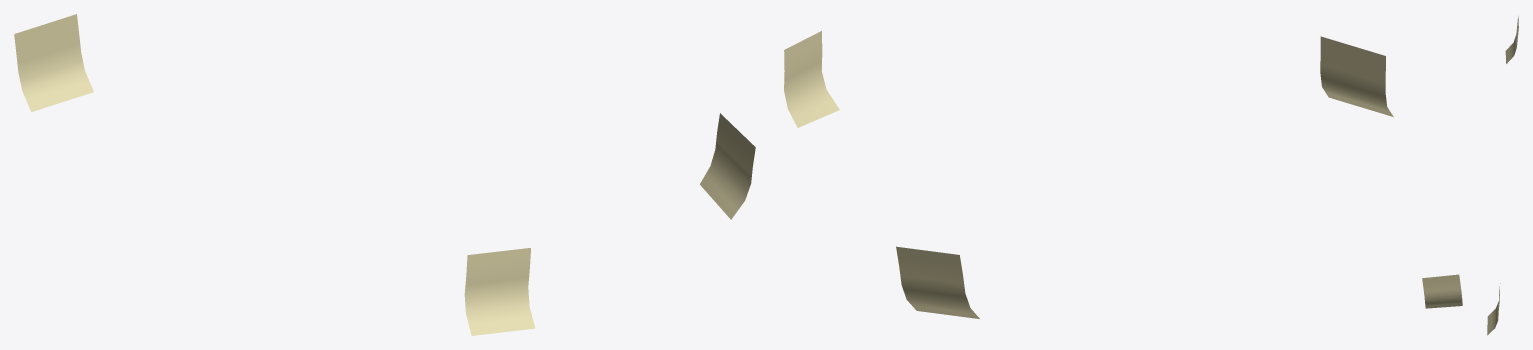
3 views of the same model, side by side, from view 1: azimuth 30°, elevation 25°; view 2: azimuth 150°, elevation 25°; view 3: azimuth 270°, elevation 25° (orthographic). The views are drawn at different scales.
Visible parts, largest first — view 1: Plane; view 2: Plane; view 3: Plane.
Part boxes in pixels (x1=…): Plane: x1=14, y1=14, x2=755, y2=335; Plane: x1=784, y1=31, x2=1393, y2=318; Plane: x1=1422, y1=16, x2=1518, y2=335.
Size of the model in its own units: 1.78 by 1.04 by 0.4503.
